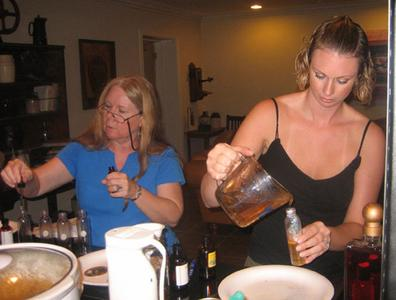person: (202, 15, 386, 298)
